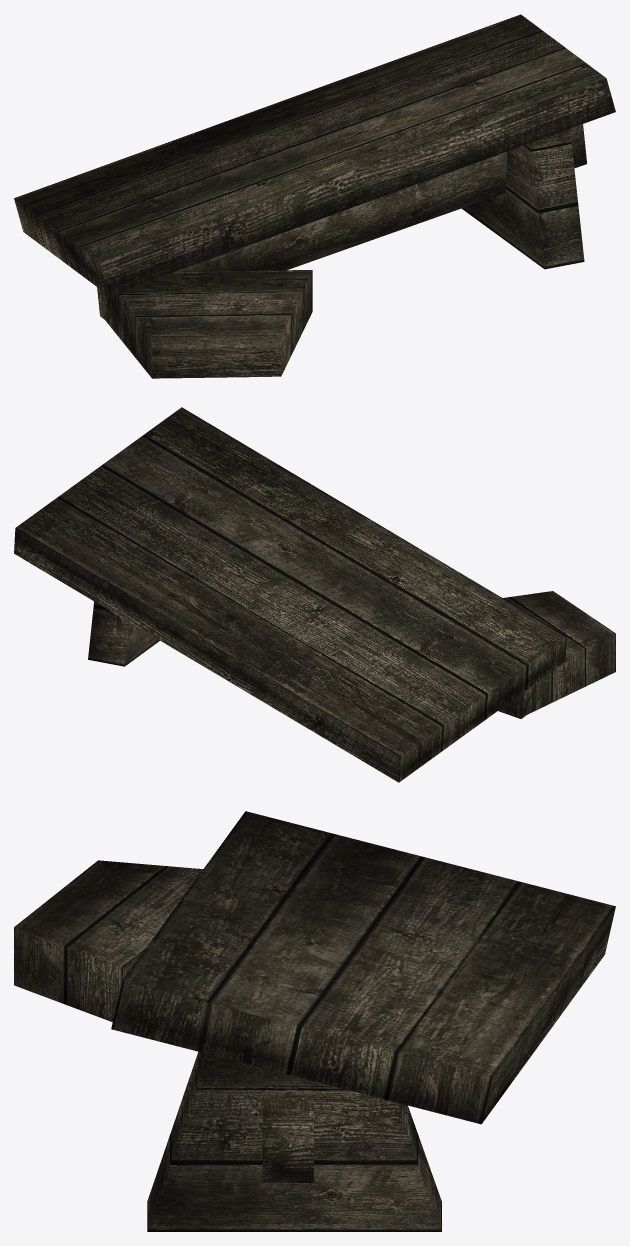
File: OC_TABLE_V1_DESTROYED.glb
3 views of the same model, one above another, from view 1: azimuth 30°, elevation 25°; view 2: azimuth 150°, elevation 25°; view 3: azimuth 270°, elevation 25° (orthographic). The views are drawn at different scales.
Parts seen in each view (by area): view 1: Mesh; view 2: Mesh; view 3: Mesh.
Boxes of the visible parts, left/top/right/bottom form: Mesh: left=14, top=14, right=615, bottom=378; Mesh: left=14, top=407, right=615, bottom=782; Mesh: left=14, top=811, right=615, bottom=1231.
Size of the model in its own units: 2.31 by 0.7988 by 1.68.
Materials: 1 (1 with a texture image).
